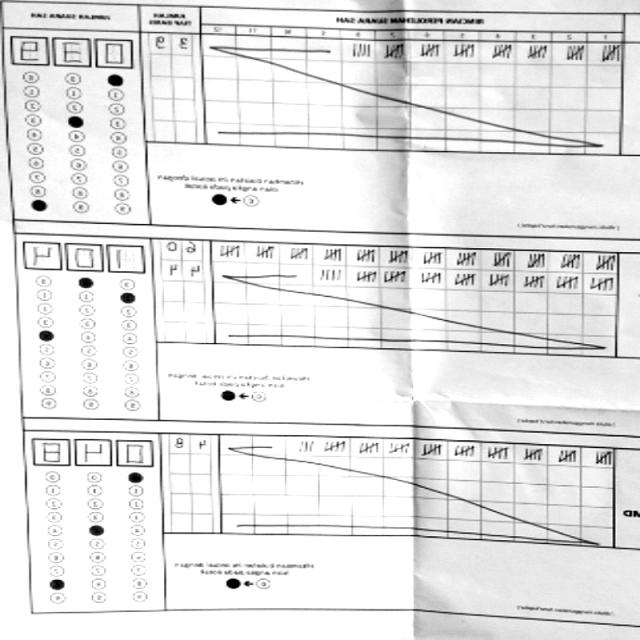Suara: (9, 34, 138, 72), (19, 238, 147, 276), (29, 434, 158, 471)
